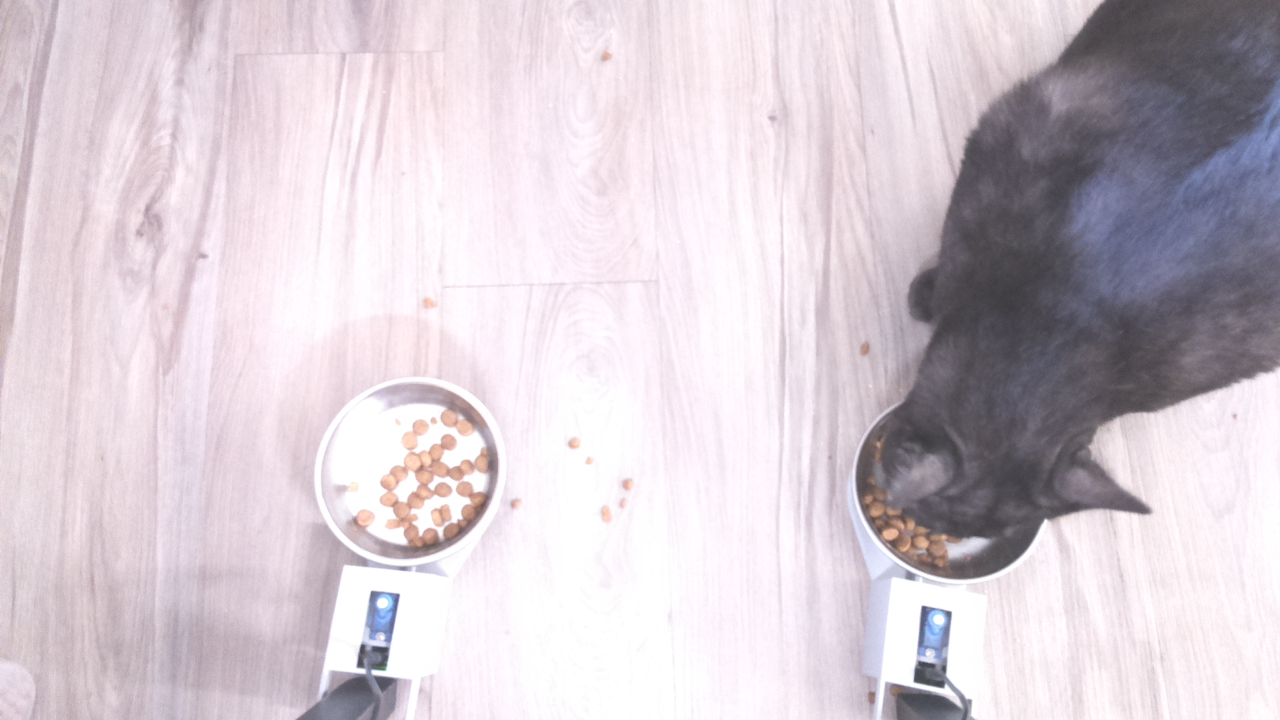open_bowl: (311, 373, 512, 571)
saki_eating: (842, 279, 1159, 593)
